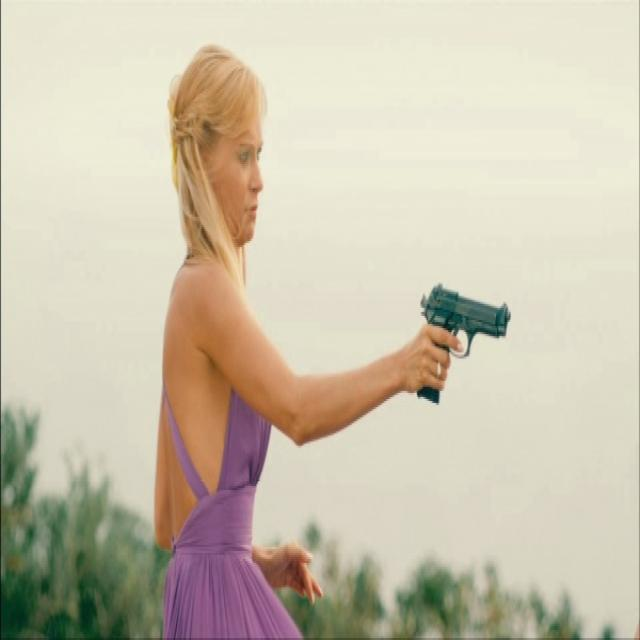weapons: (404, 262, 522, 422)
